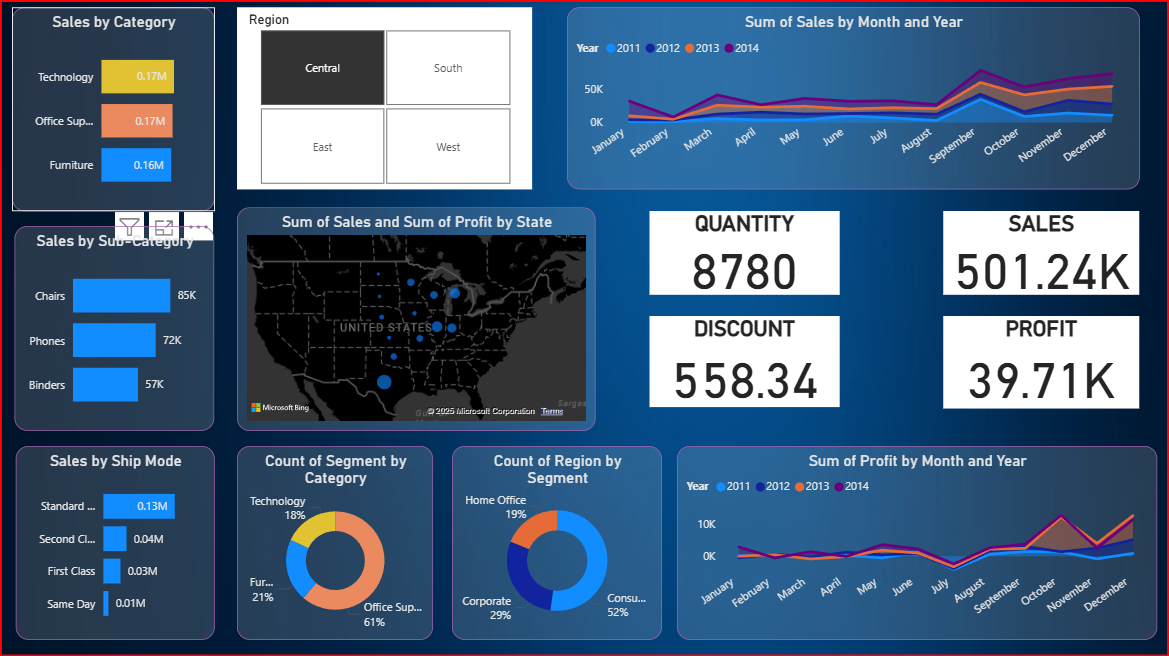

Layout of this report page (visuals, bound fields, positions):
{"tool":"powerbi","page":{"name":"Page 1","canvas":[1280,720],"ordinal":0},"visuals":[{"type":"clusteredBarChart","title":"Sales by Category","fields":{"Category":["Orders.Category"],"Y":["Sum(Orders.Sales)"]},"box":[11,6.9,222.3,223.7],"z":0},{"type":"clusteredBarChart","title":"Sales by Sub-Category","fields":{"Category":["Orders.Sub-Category"],"Y":["Sum(Orders.Sales)"]},"box":[13.7,247,219.6,225],"z":1000},{"type":"clusteredBarChart","title":"Sales by Ship Mode","fields":{"Category":["Orders.Ship Mode"],"Y":["Sum(Orders.Sales)"]},"box":[15.1,488.5,218.2,212.7],"z":2000},{"type":"stackedAreaChart","title":"Sum of Sales by Month and Year","fields":{"Y":["Sum(Orders.Sales)"],"Category":["Orders.Order Date.Variation.Date Hierarchy.Month"],"Series":["Orders.Order Date.Variation.Date Hierarchy.Year"]},"box":[620.2,6.9,628.5,200.3],"z":3000},{"type":"stackedAreaChart","title":"Sum of Profit by Month and Year","fields":{"Category":["Orders.Order Date.Variation.Date Hierarchy.Month"],"Series":["Orders.Order Date.Variation.Date Hierarchy.Year"],"Y":["Sum(Orders.Profit)"]},"box":[741,488.5,526.9,212.7],"z":4000},{"type":"map","fields":{"Category":["Orders.State"],"Size":["Sum(Orders.Sales)"]},"box":[258,226.4,393.8,245.6],"z":4001},{"type":"donutChart","title":"Count of Segment by Category","fields":{"Category":["Orders.Category"],"Y":["CountNonNull(Orders.Segment)"]},"box":[258,488.5,215.4,212.7],"z":4002},{"type":"donutChart","title":"Count of Region by Segment","fields":{"Category":["Orders.Segment"],"Y":["CountNonNull(Orders.Region)"]},"box":[494,488.5,230.5,212.7],"z":4003},{"type":"card","title":"QUANTITY","fields":{"Values":["Sum(Orders.Quantity)"]},"box":[710.8,230.5,208.6,91.9],"z":4004},{"type":"card","title":"PROFIT","fields":{"Values":["Sum(Orders.Profit)"]},"box":[1033.3,345.8,215.4,101.5],"z":4005},{"type":"card","title":"DISCOUNT","fields":{"Values":["Sum(Orders.Discount)"]},"box":[710.8,345.8,208.6,100.2],"z":4006},{"type":"card","title":"SALES","fields":{"Values":["Sum(Orders.Sales)"]},"box":[1033.3,230.5,215.4,91.9],"z":4007},{"type":"slicer","fields":{"Values":["Orders.Region"]},"box":[258,6.9,323.8,200.3],"z":4008}]}

Visuals, with their boxes in screenshot pixels (x1, y1, x2, y2), scaled from the page's 1280x720 canvas onto the 1169x656 screenshot:
"Sales by Category" clusteredBarChart: [left=10, top=6, right=213, bottom=210]
"Sales by Sub-Category" clusteredBarChart: [left=13, top=225, right=213, bottom=430]
"Sales by Ship Mode" clusteredBarChart: [left=14, top=445, right=213, bottom=639]
"Sum of Sales by Month and Year" stackedAreaChart: [left=566, top=6, right=1140, bottom=189]
"Sum of Profit by Month and Year" stackedAreaChart: [left=677, top=445, right=1158, bottom=639]
map - Orders.State x Sum(Orders.Sales): [left=236, top=206, right=595, bottom=430]
"Count of Segment by Category" donutChart: [left=236, top=445, right=432, bottom=639]
"Count of Region by Segment" donutChart: [left=451, top=445, right=662, bottom=639]
"QUANTITY" card: [left=649, top=210, right=840, bottom=294]
"PROFIT" card: [left=944, top=315, right=1140, bottom=408]
"DISCOUNT" card: [left=649, top=315, right=840, bottom=406]
"SALES" card: [left=944, top=210, right=1140, bottom=294]
slicer - Orders.Region: [left=236, top=6, right=531, bottom=189]
